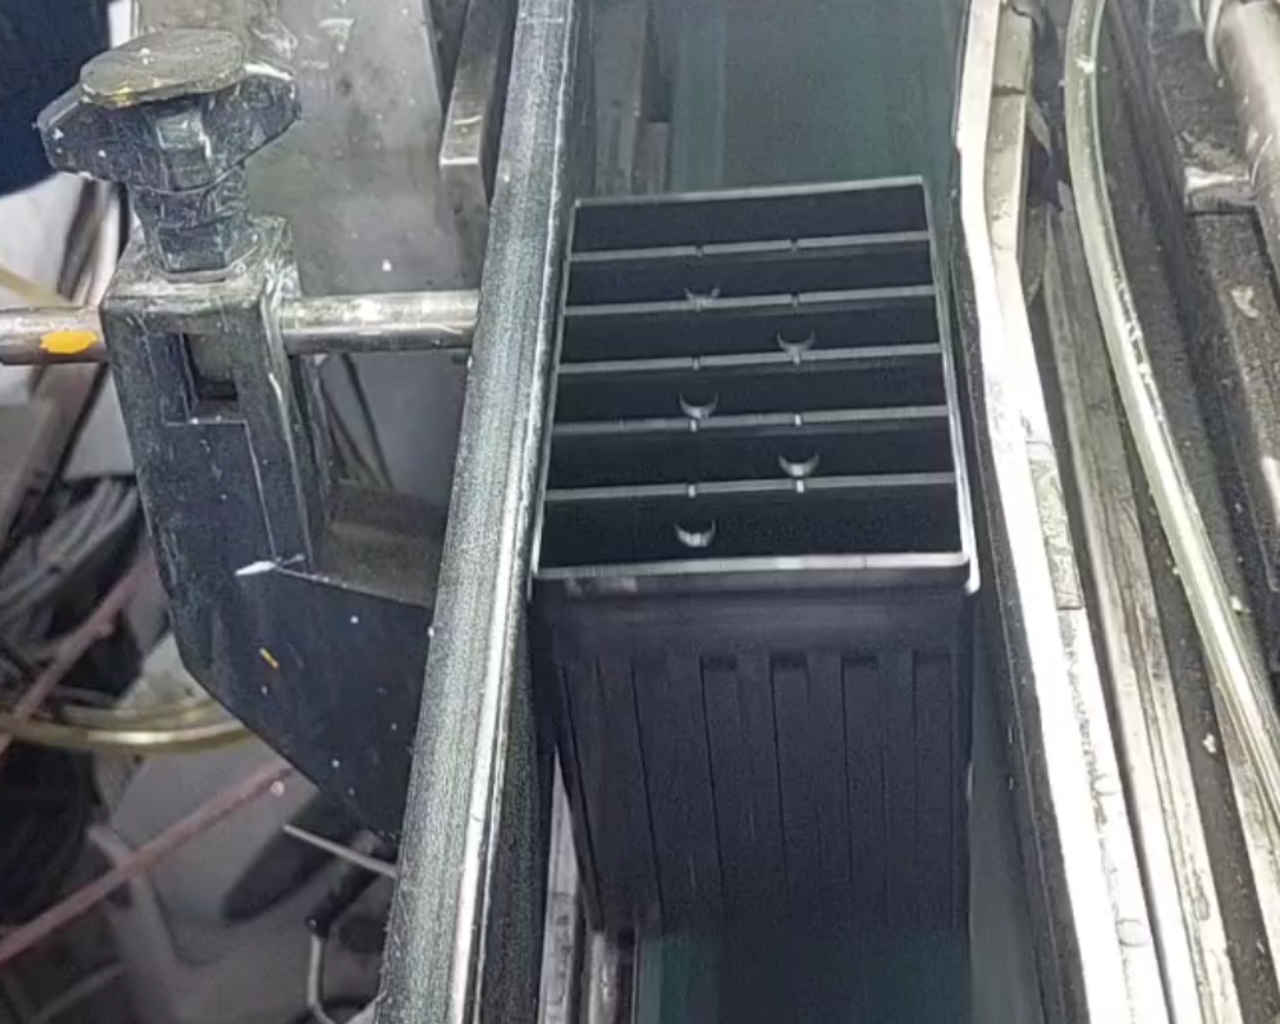box: (516, 163, 997, 616)
round: (662, 501, 725, 554), (768, 305, 823, 359), (671, 375, 730, 423), (769, 432, 827, 481), (675, 262, 728, 305)
